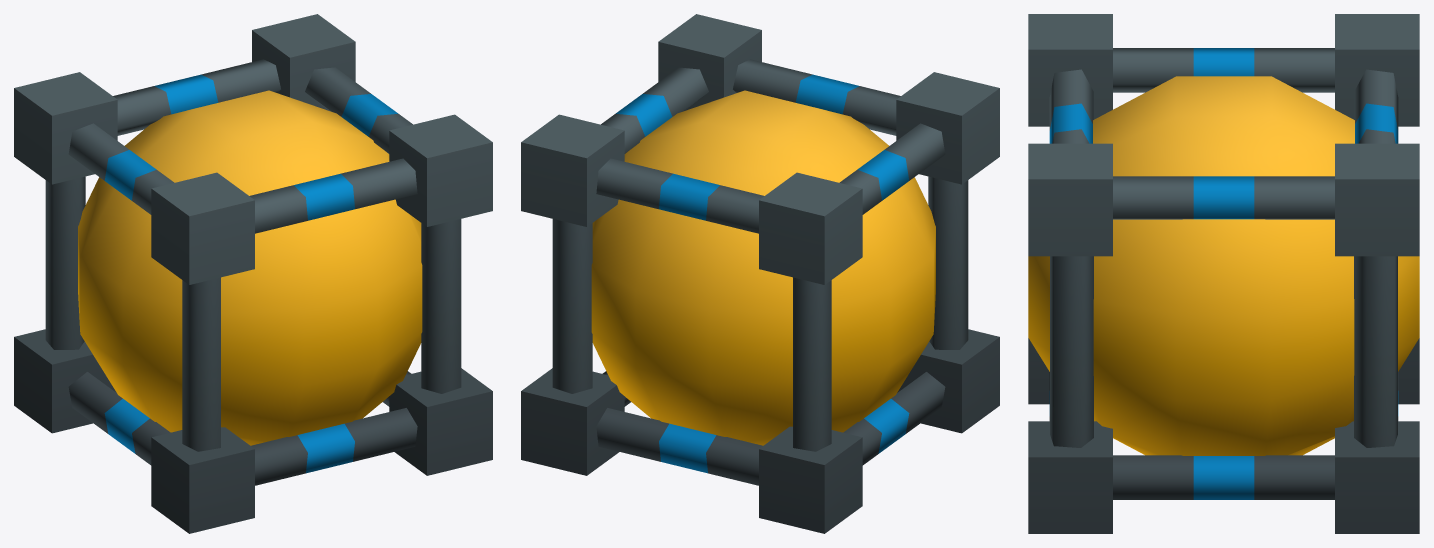
3 renders of one model, left to right at view 1: azimuth 30°, elevation 25°; view 2: azimuth 150°, elevation 25°; view 3: azimuth 270°, elevation 25°, orthographic. The views are drawn at different scales.
Parts seen in each view (by area): view 1: Box_011; view 2: Box_011; view 3: Box_011.
Part boxes in pixels (x1,y1,x2,y2): Box_011: (14, 14, 492, 533); Box_011: (521, 14, 999, 533); Box_011: (1028, 14, 1419, 533).
Bounding box in the file's own units: 60 × 60 × 60.
